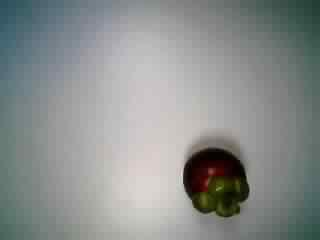mangosteen: (175, 145, 253, 221)
